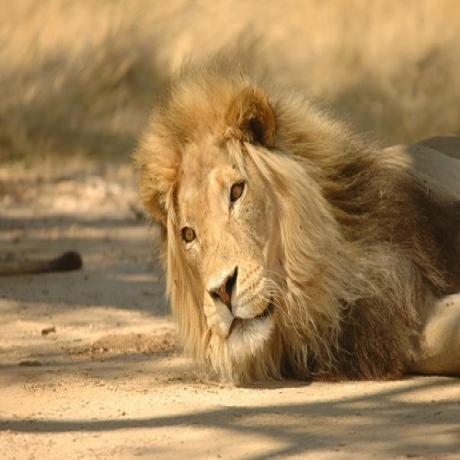Lion: (133, 52, 460, 379)
